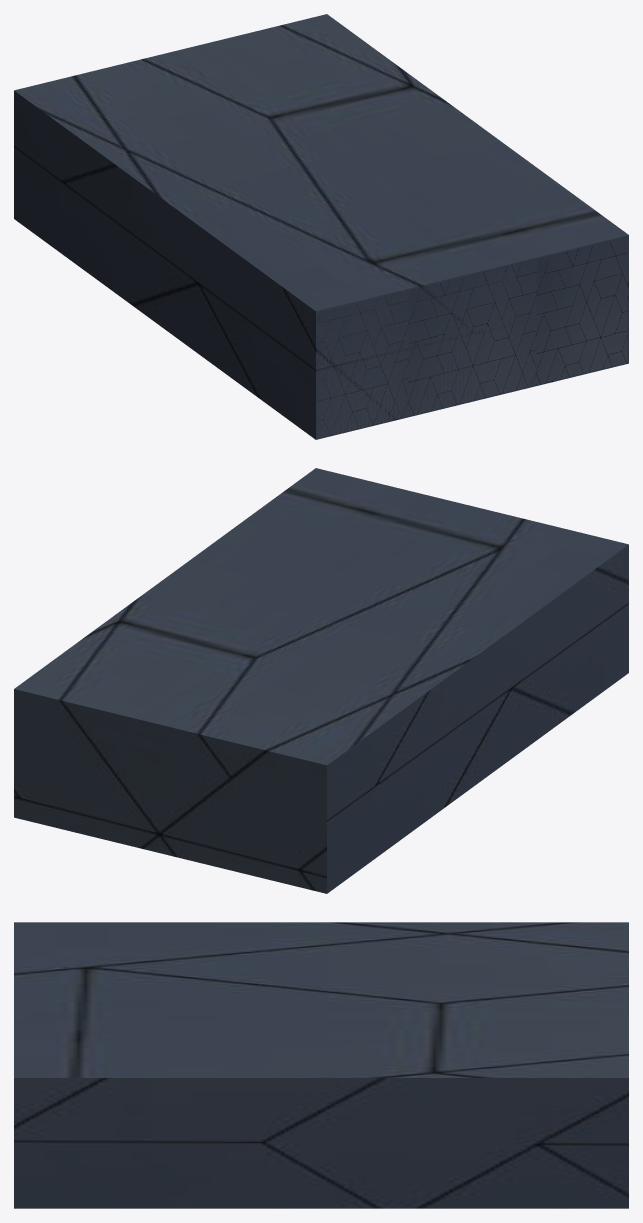
Rendered from level2.fbx.
3 views of the same model, one above another, from view 1: azimuth 30°, elevation 25°; view 2: azimuth 150°, elevation 25°; view 3: azimuth 270°, elevation 25° (orthographic).
Visible parts, largest first — view 1: room; view 2: room; view 3: room.
Part boxes in pixels (box(x1,y1,x2,y2)): room: box(14, 14, 628, 439); room: box(14, 468, 628, 893); room: box(14, 922, 628, 1208).
Bounding box in the file's own units: 1873 × 735 × 3129.
Materials: 7 (3 with a texture image).
